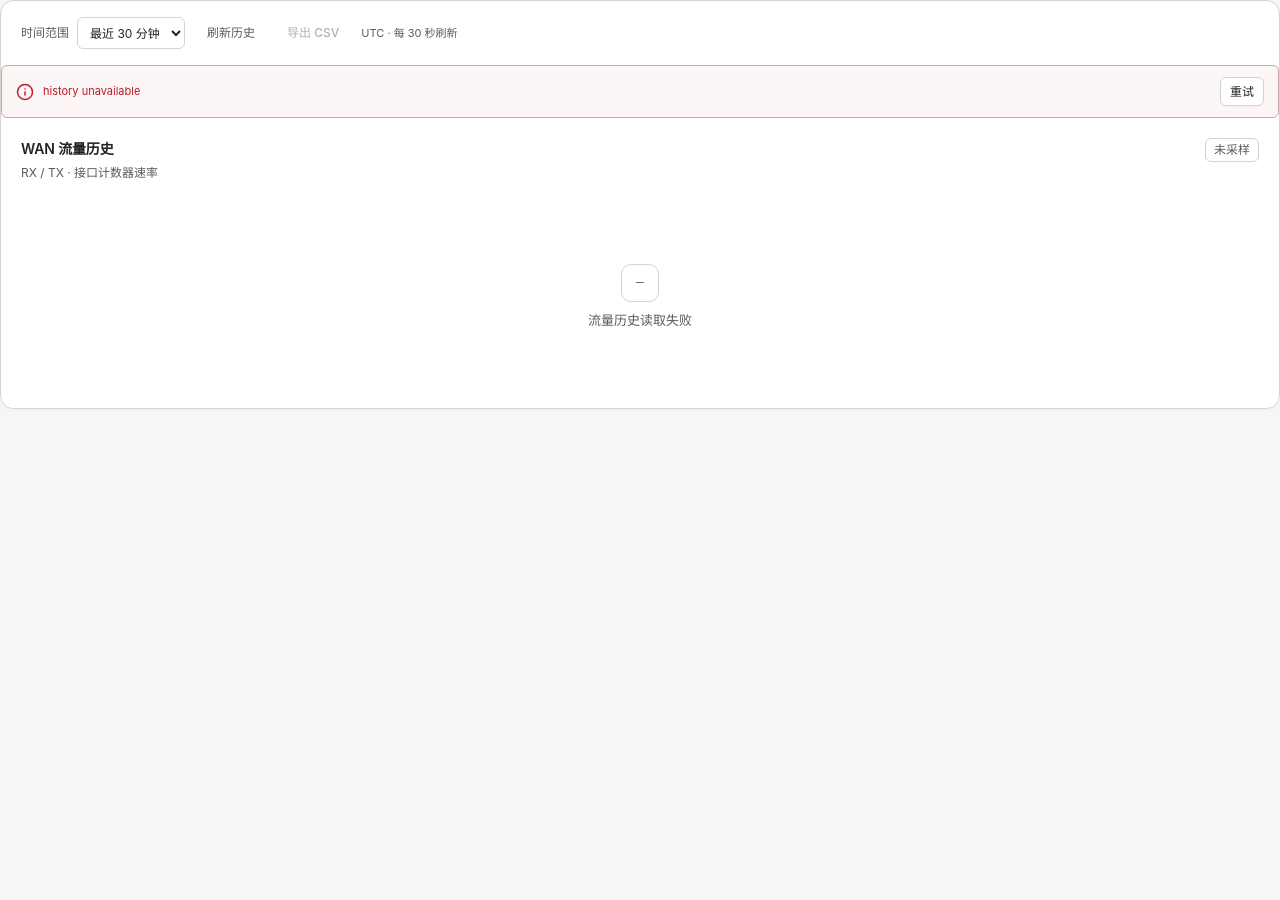
Test: durable history panel › reports read errors and keeps retry and the range selector usable
Check: the message "history unavailable 重试" is shown, box x1=1 y1=65 x2=1279 y2=118
Check: the message "— 流量历史读取失败" is shown, box x1=588 y1=264 x2=692 y2=328
Click the button "重试".
click(1242, 92)  # box x1=1220 y1=77 x2=1264 y2=106
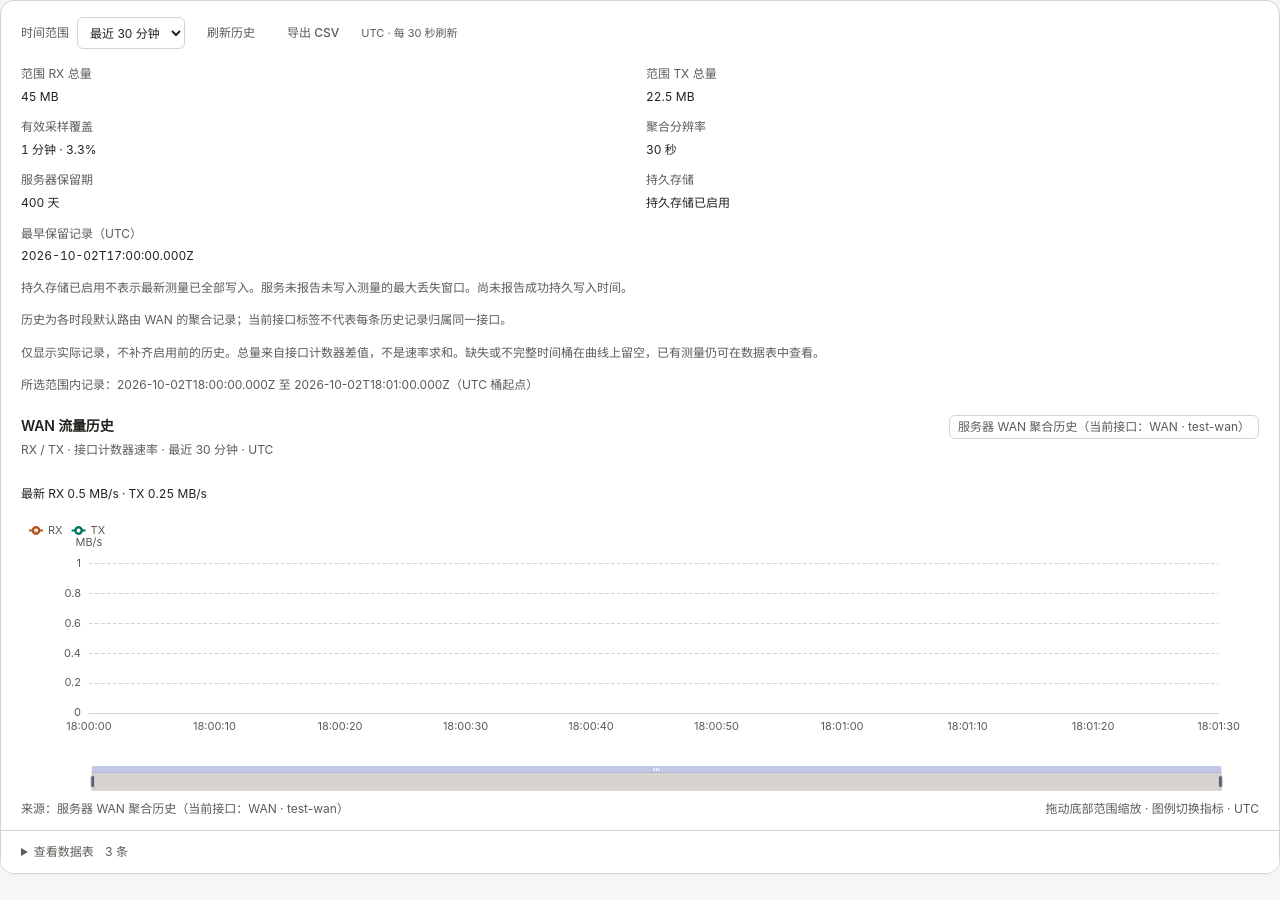
Check: the text "45 MB" is shown, box x1=21 y1=89 x2=58 y2=104
Check: the message "history unavailable 重试" is gone
